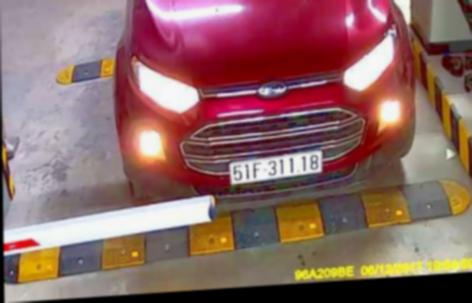License_Plate: (229, 152, 324, 185)
